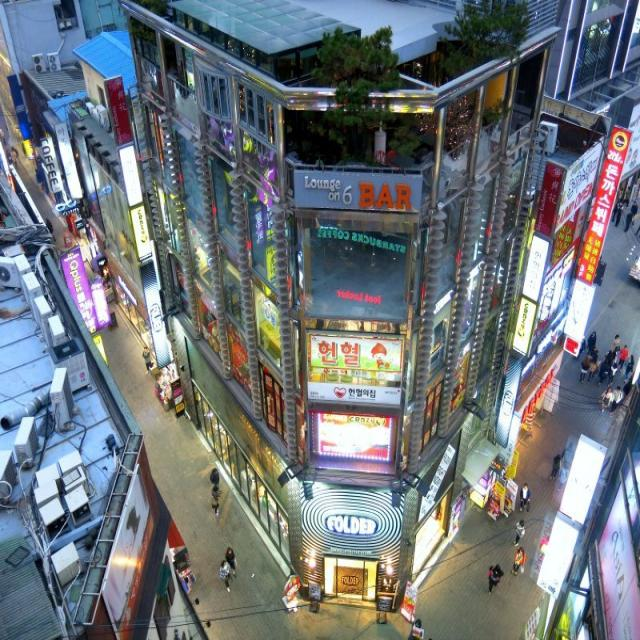body: (486, 562, 505, 597), (510, 544, 527, 579), (560, 439, 574, 478), (218, 559, 233, 593), (609, 382, 624, 414), (224, 545, 238, 579), (404, 616, 424, 639), (208, 484, 222, 516), (599, 385, 614, 414), (596, 354, 610, 385), (512, 518, 526, 548), (586, 352, 600, 382), (518, 480, 531, 512), (142, 344, 154, 376), (622, 353, 634, 383), (209, 466, 222, 493), (550, 452, 562, 481), (580, 352, 590, 384), (618, 345, 630, 370), (45, 217, 56, 243), (628, 200, 638, 226), (622, 210, 633, 233), (7, 147, 17, 172), (10, 146, 20, 170), (586, 330, 596, 353), (611, 199, 621, 222), (621, 185, 631, 208), (608, 362, 618, 384), (614, 203, 623, 227), (576, 334, 586, 353), (618, 186, 626, 204), (188, 80, 198, 93), (614, 333, 621, 351), (427, 635, 433, 640)
